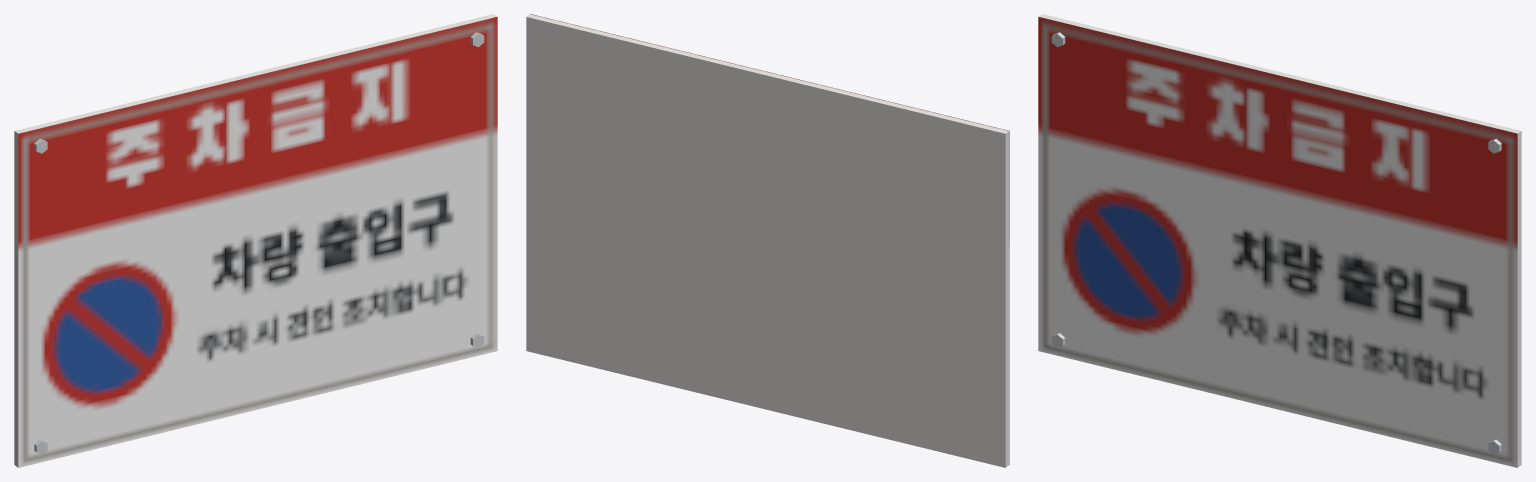
The model's file is SC_Util_Sign_NoParking_Wall.gltf.
The picture shows the model from 3 angles, left to right: view 1: azimuth 30°, elevation 25°; view 2: azimuth 150°, elevation 25°; view 3: azimuth 330°, elevation 25°; orthographic projection.
Parts seen in each view (by area): view 1: SC_Util_Sign_NoParking_Wall; view 2: SC_Util_Sign_NoParking_Wall; view 3: SC_Util_Sign_NoParking_Wall.
Part boxes in pixels (x1,y1,x2,y2): SC_Util_Sign_NoParking_Wall: [14, 14, 497, 467]; SC_Util_Sign_NoParking_Wall: [526, 14, 1009, 467]; SC_Util_Sign_NoParking_Wall: [1038, 14, 1521, 467].
Size of the model in its own units: 0.45 by 0.3 by 0.0105.
2 materials, 2 textured.
